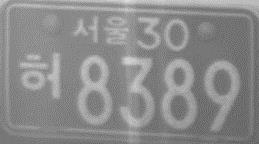0: (163, 17, 191, 53)
3: (116, 54, 156, 130), (135, 14, 163, 51)
8: (160, 57, 200, 131), (75, 54, 114, 127)
9: (202, 58, 242, 134)
서울_O: (70, 14, 130, 46)
허: (18, 50, 64, 102)
